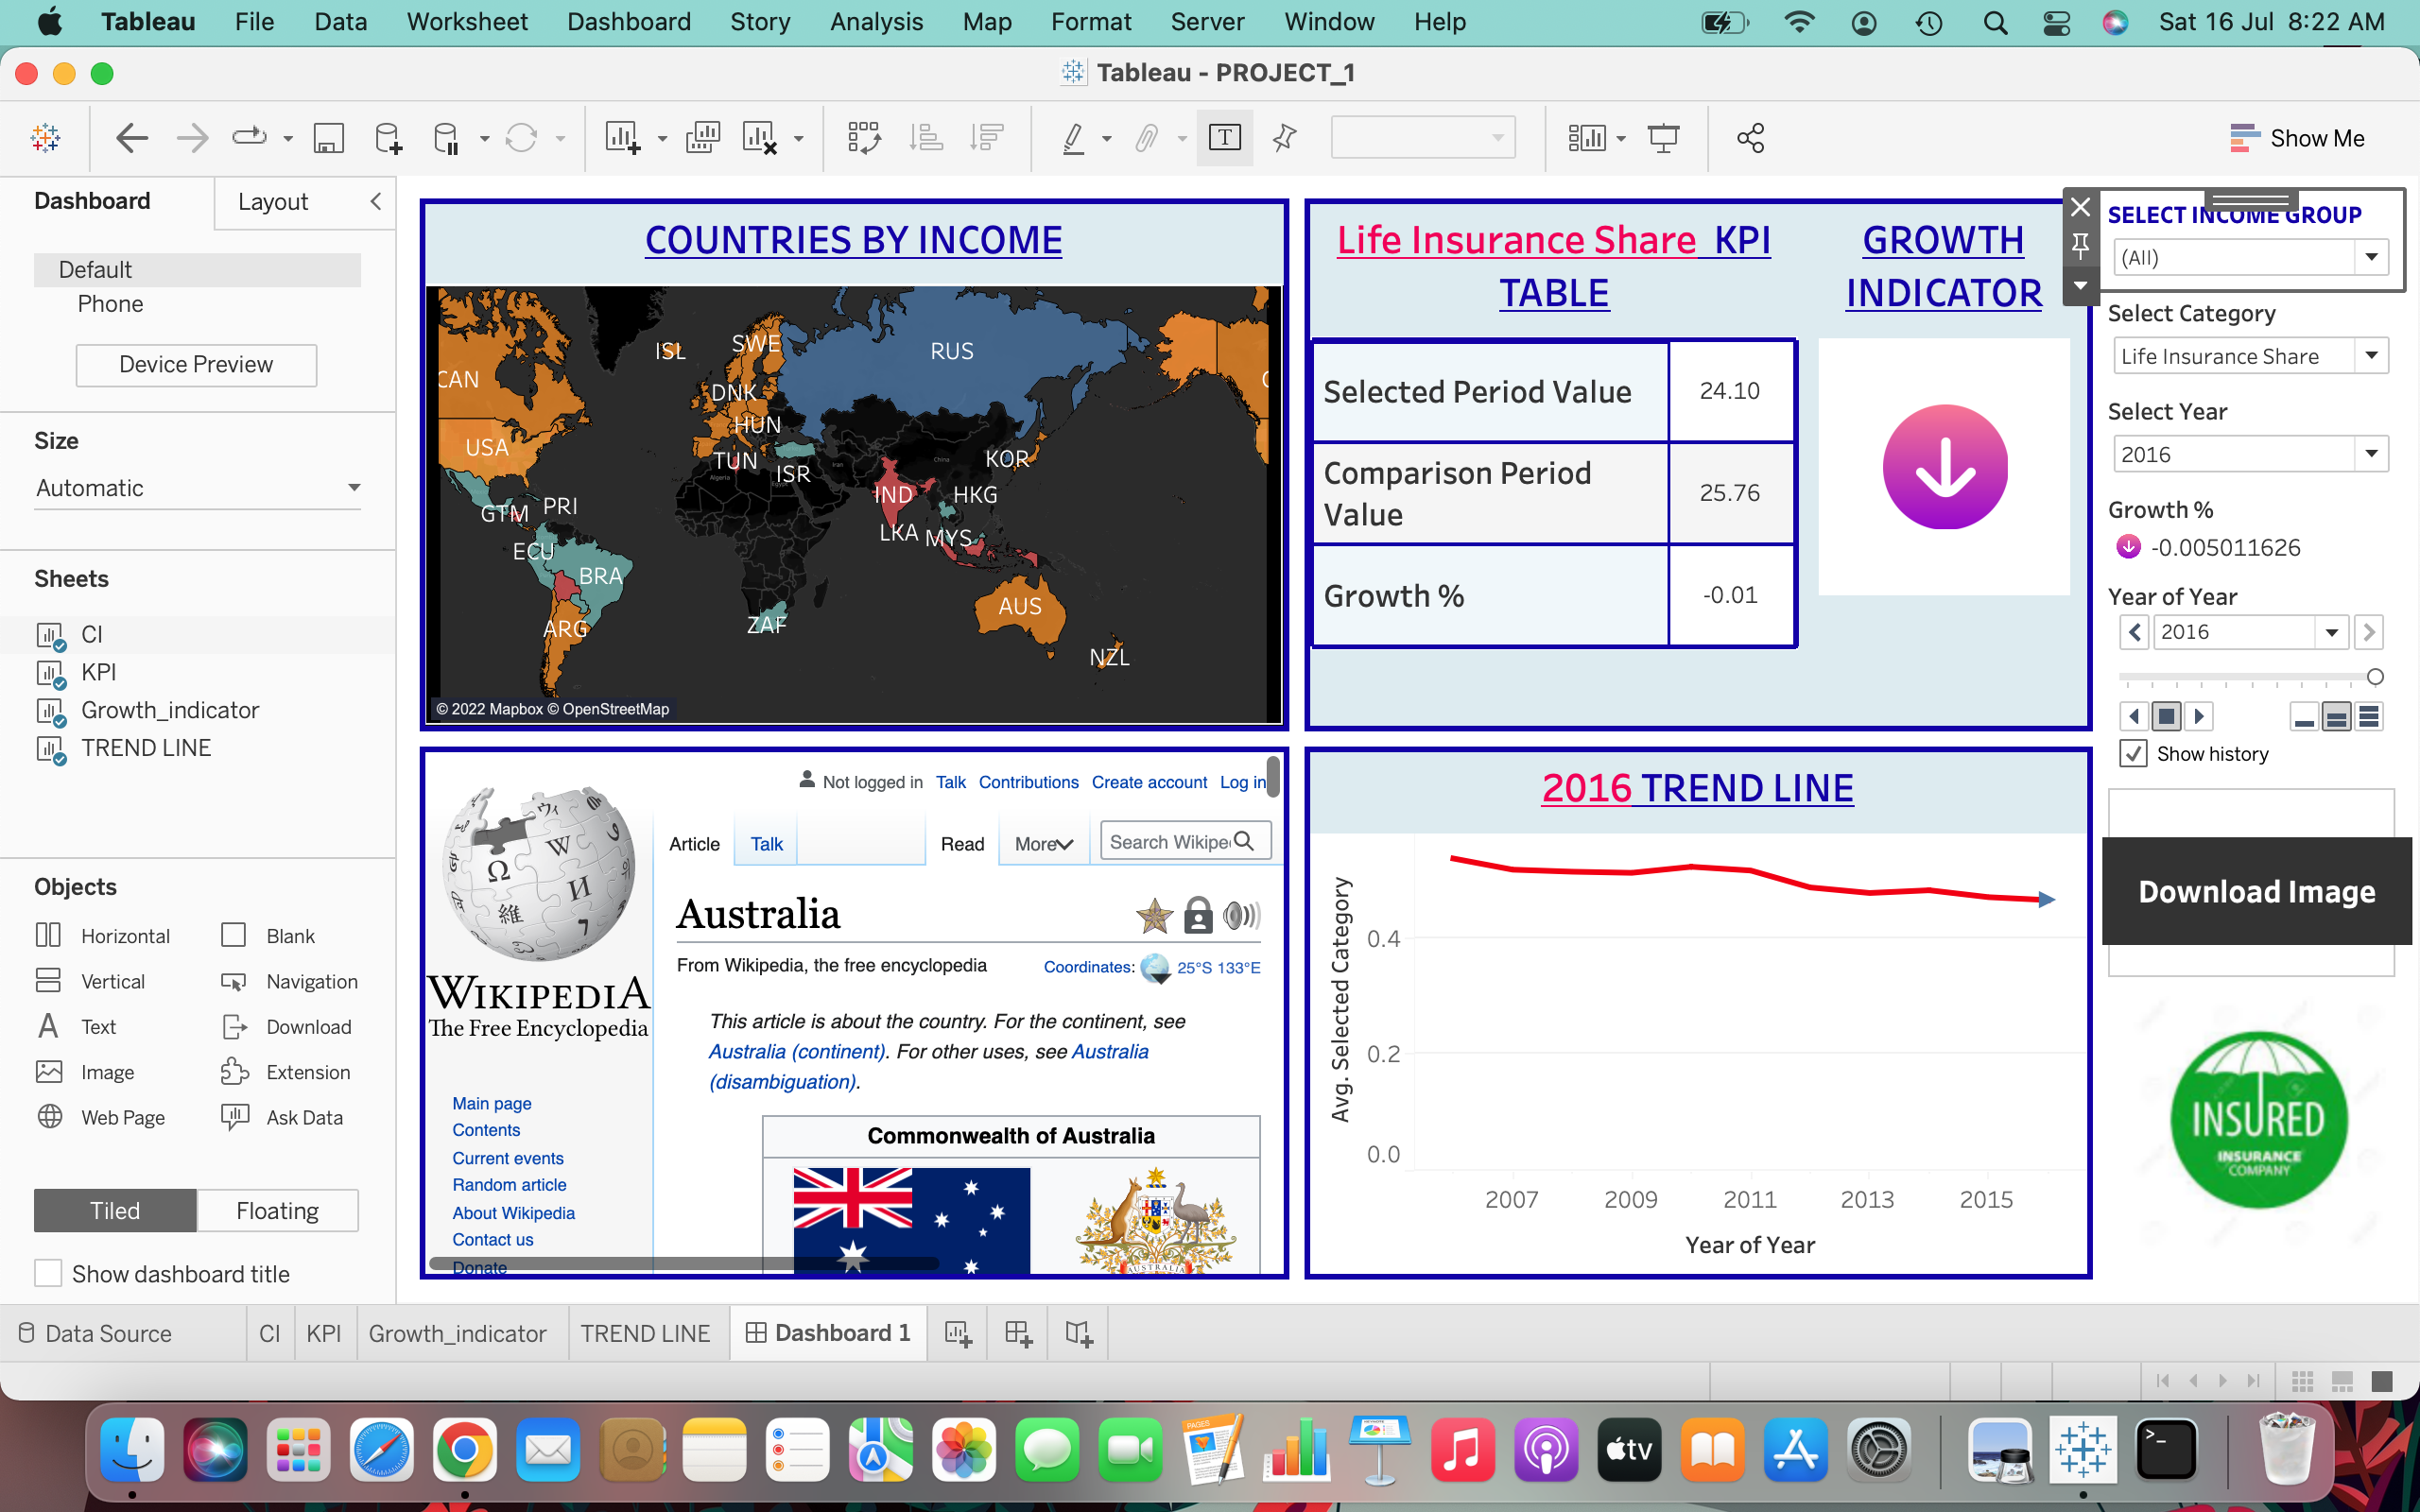

What the dashboard file says about the page in this screenshot:
{"tool":"tableau","page":{"name":"Dashboard 1","canvas":[1000,1000],"units":"permille","ordinal":0},"visuals":[{"type":"worksheet","title":"CI","mark":"Multipolygon","box":[7.5,13.4,437.8,486.6]},{"type":"worksheet","title":"KPI","mark":"Automatic","box":[445.2,13.4,397.6,486.6]},{"type":"filter","title":"CI","param":"[federated.1fipu211le5kca1h7y9bp1ckrg3c].[none:income:nk]","box":[842.9,13.4,149.7,87.2]},{"type":"worksheet","title":"Growth_indicator","mark":"Shape","box":[703.5,25.2,124.4,347.3]},{"type":"parameter","param":"[Parameters].[Parameter 1]","box":[842.9,100.7,149.7,87.2]},{"type":"parameter","param":"[Parameters].[Parameter 2]","box":[842.9,187.9,149.7,87.2]},{"type":"legend","title":"Growth_indicator","param":"[federated.1lisj040h324w918qebh61sk974a].[usr:Calculation_2968012947827757062:ok","box":[842.9,275.2,149.7,77.2]},{"type":"currpage","title":"TREND LINE","box":[842.9,352.4,149.7,184.6]},{"type":"web page","param":"https://en.wikipedia.org/wiki/Australia","box":[7.5,500,437.8,486.6]},{"type":"worksheet","title":"TREND LINE","mark":"Shape","rows":["Calculation_2968012947826745347"],"cols":["Year"],"box":[445.2,500,397.6,486.6]},{"type":"image","box":[842.9,536.9,149.7,181.2]},{"type":"dashboard-object","box":[843.8,587.2,153.4,95.6]},{"type":"image","param":"/Users/Apple/Desktop/download.jpeg","box":[858.8,728.2,125.4,226.5]}]}

Visuals, with their boxes on the dashboard's canvas, which has no fixed pixel size, in thousandths of its width and height (x1, y1, x2, y2). These are canvas units, not pixel positions in the 2420x1512 screenshot, which may show the page scaled, cropped or inside an application window:
"CI" worksheet (Multipolygon marks): left=8, top=13, right=445, bottom=500
"KPI" worksheet: left=445, top=13, right=843, bottom=500
"CI" filter: left=843, top=13, right=993, bottom=101
"Growth_indicator" worksheet (Shape marks): left=704, top=25, right=828, bottom=372
parameter: left=843, top=101, right=993, bottom=188
parameter: left=843, top=188, right=993, bottom=275
"Growth_indicator" legend: left=843, top=275, right=993, bottom=352
"TREND LINE" currpage: left=843, top=352, right=993, bottom=537
web page: left=8, top=500, right=445, bottom=987
"TREND LINE" worksheet (Shape marks): left=445, top=500, right=843, bottom=987
image: left=843, top=537, right=993, bottom=718
dashboard-object: left=844, top=587, right=997, bottom=683
image: left=859, top=728, right=984, bottom=955
